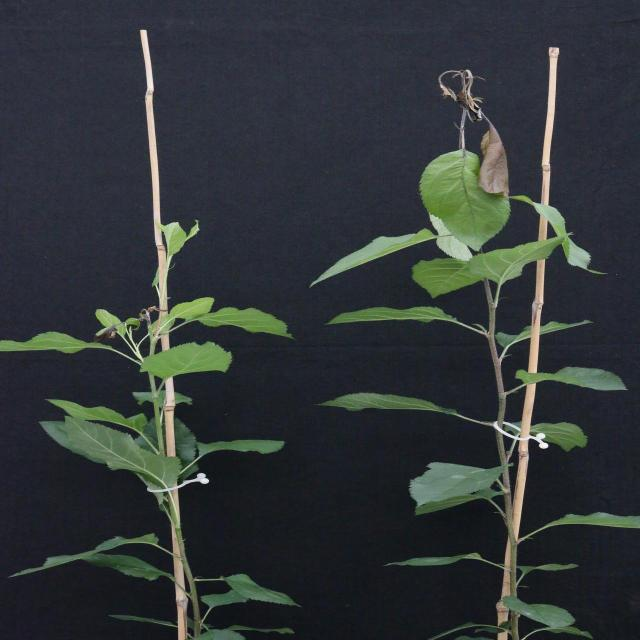-FireBlight-: (434, 65, 511, 197)
